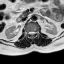CCS_normal: (31, 29, 33, 38)
LFS_normal: (35, 29, 37, 35)
LLS_normal: (33, 29, 35, 36)
RFS_normal: (26, 29, 28, 36)
RLS_normal: (28, 29, 31, 36)
